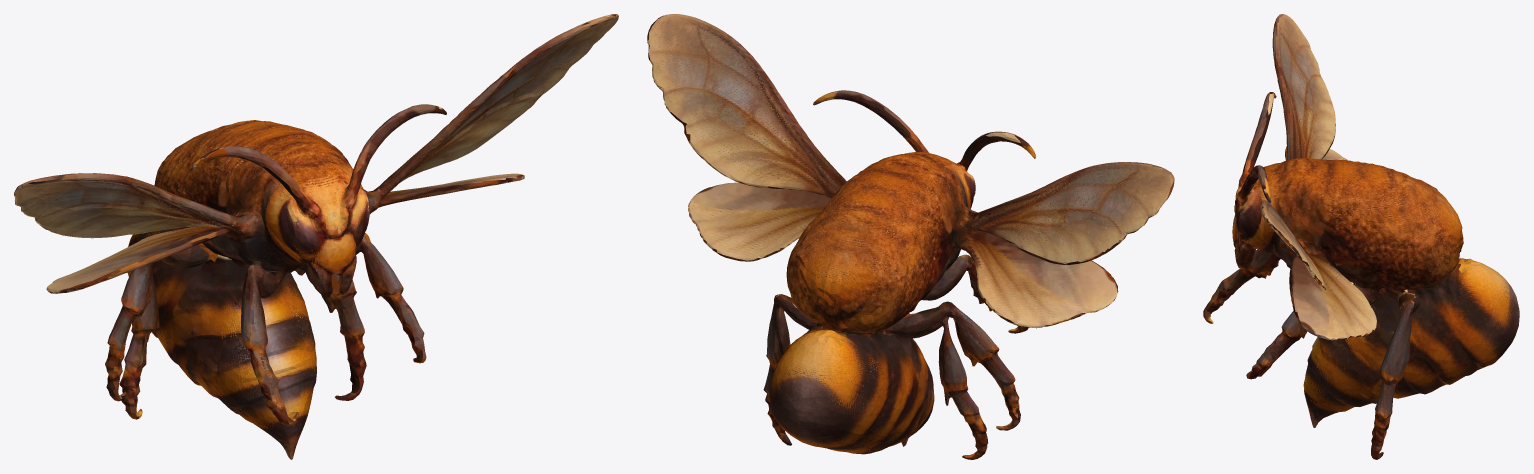
The model's file is giant_hornet.glb.
3 views of the same model, side by side, from view 1: azimuth 30°, elevation 25°; view 2: azimuth 150°, elevation 25°; view 3: azimuth 270°, elevation 25° (orthographic). The views are drawn at different scales.
Parts seen in each view (by area): view 1: temp_mesh.ply; view 2: temp_mesh.ply; view 3: temp_mesh.ply.
Boxes of the visible parts, left/top/right/bottom form: temp_mesh.ply: left=14, top=14, right=618, bottom=459; temp_mesh.ply: left=647, top=14, right=1174, bottom=459; temp_mesh.ply: left=1203, top=14, right=1519, bottom=459.
Size of the model in its own units: 1.97 by 1.25 by 1.09.
Materials: 1 (1 with a texture image).
